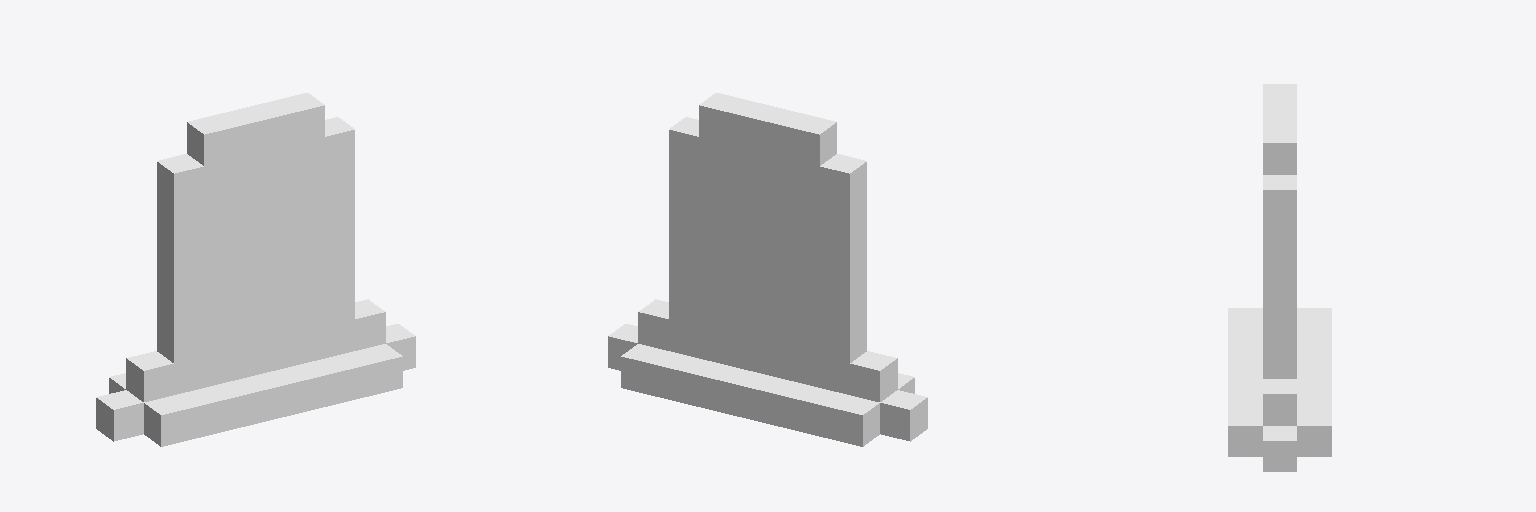
The model's file is tomb.obj.
3 renders of one model, left to right at view 1: azimuth 30°, elevation 25°; view 2: azimuth 150°, elevation 25°; view 3: azimuth 270°, elevation 25°, orthographic.
Visible parts, largest first — view 1: object 1; view 2: object 1; view 3: object 1.
Boxes of the visible parts, box(x1,y1,x2,y2) form: object 1: box(96, 93, 415, 446); object 1: box(608, 93, 927, 446); object 1: box(1228, 84, 1331, 471).
Size of the model in its own units: 1 by 0.9 by 0.3.